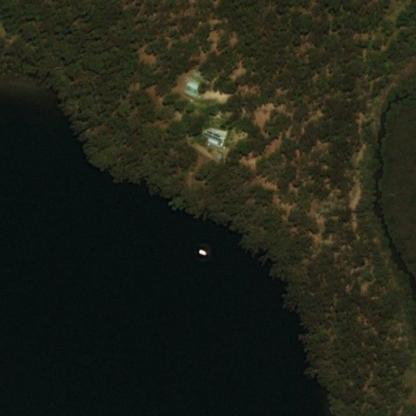ship: (189, 238, 212, 263)
